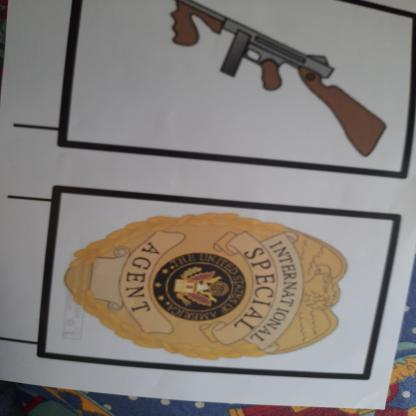Bootlegger: (128, 1, 405, 168)
G-man: (43, 207, 363, 369)
